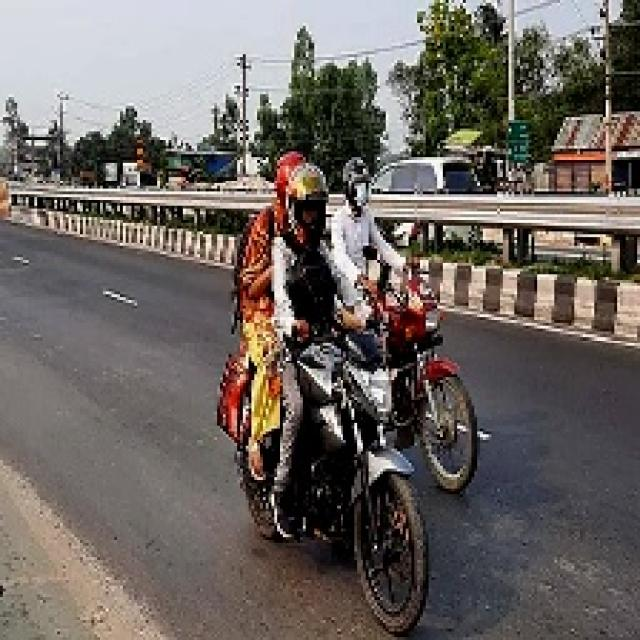rickshaw: (224, 317, 433, 609), (354, 250, 487, 492)
